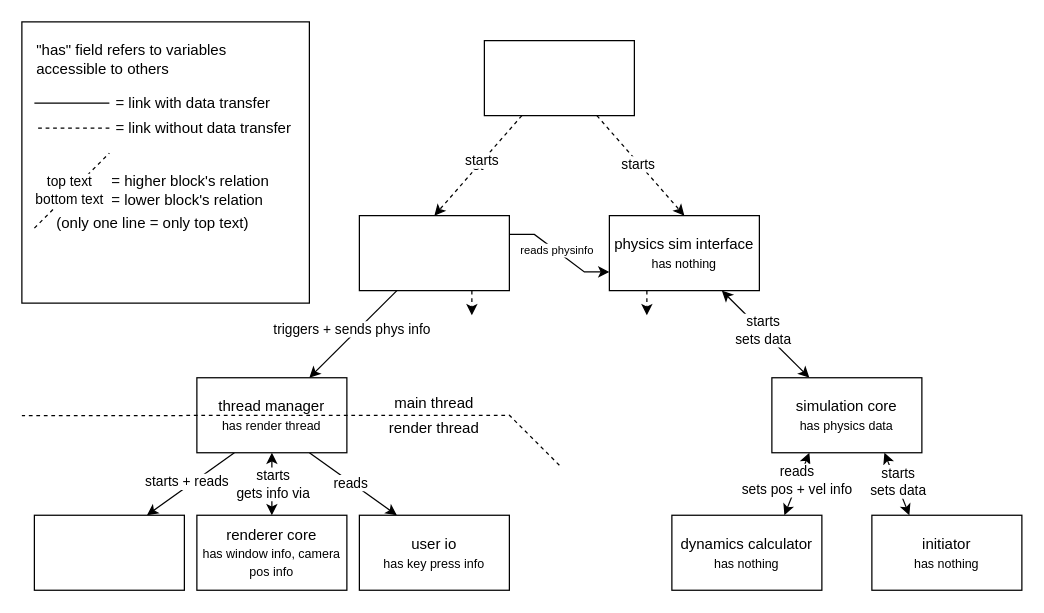
The diagram is 1044 pixels wide and 613 high, and some of its shapes have lost their labels. Each missing label, with the box of its shape:
main has nothing: (483, 39, 634, 116)
openGL interface has openGL bindings: (33, 514, 184, 590)
renderer interface has nothing: (358, 214, 509, 291)
